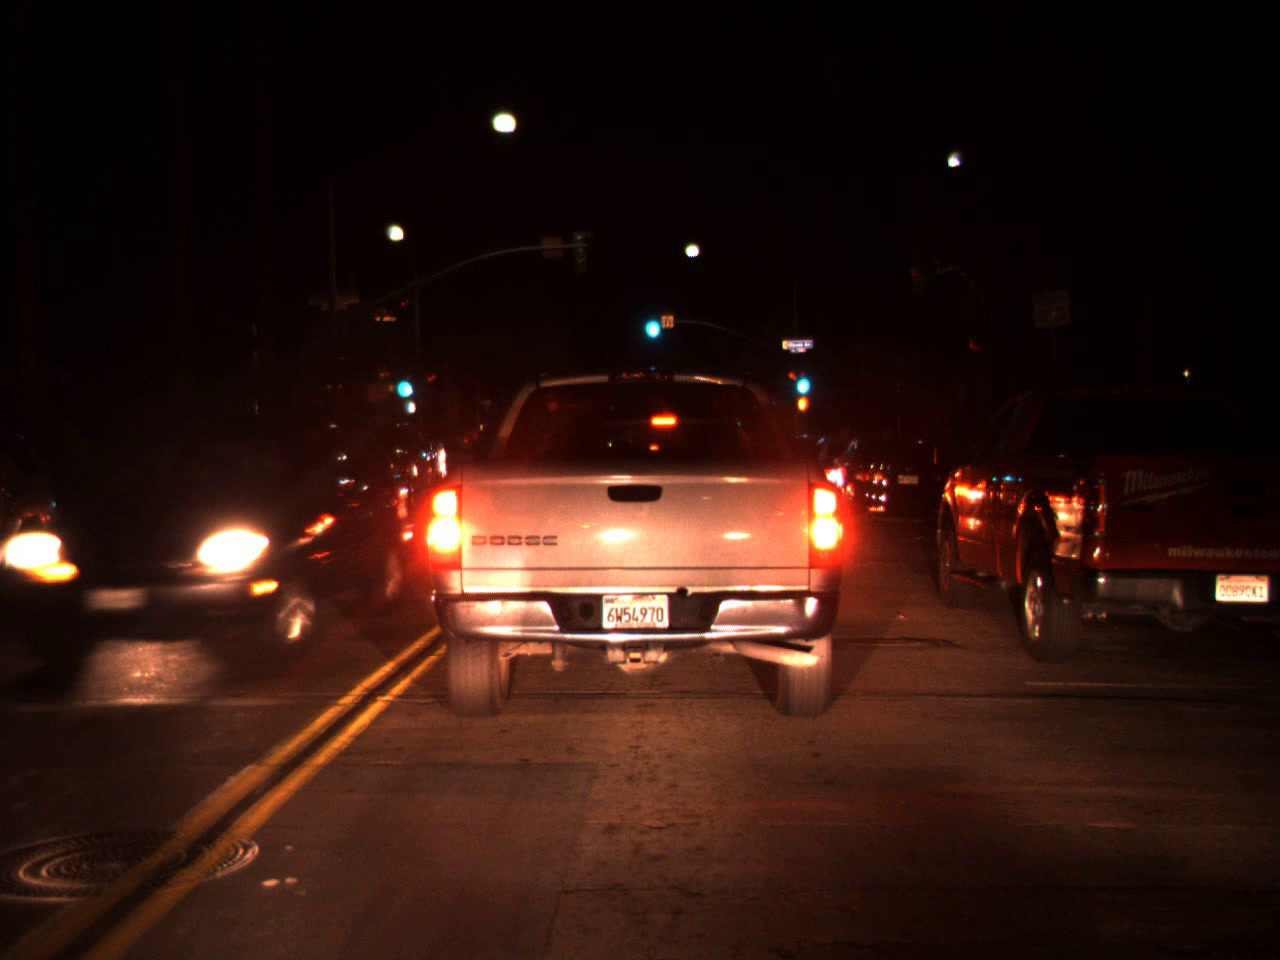go: (639, 301, 662, 343), (392, 361, 413, 403), (792, 358, 811, 400)
